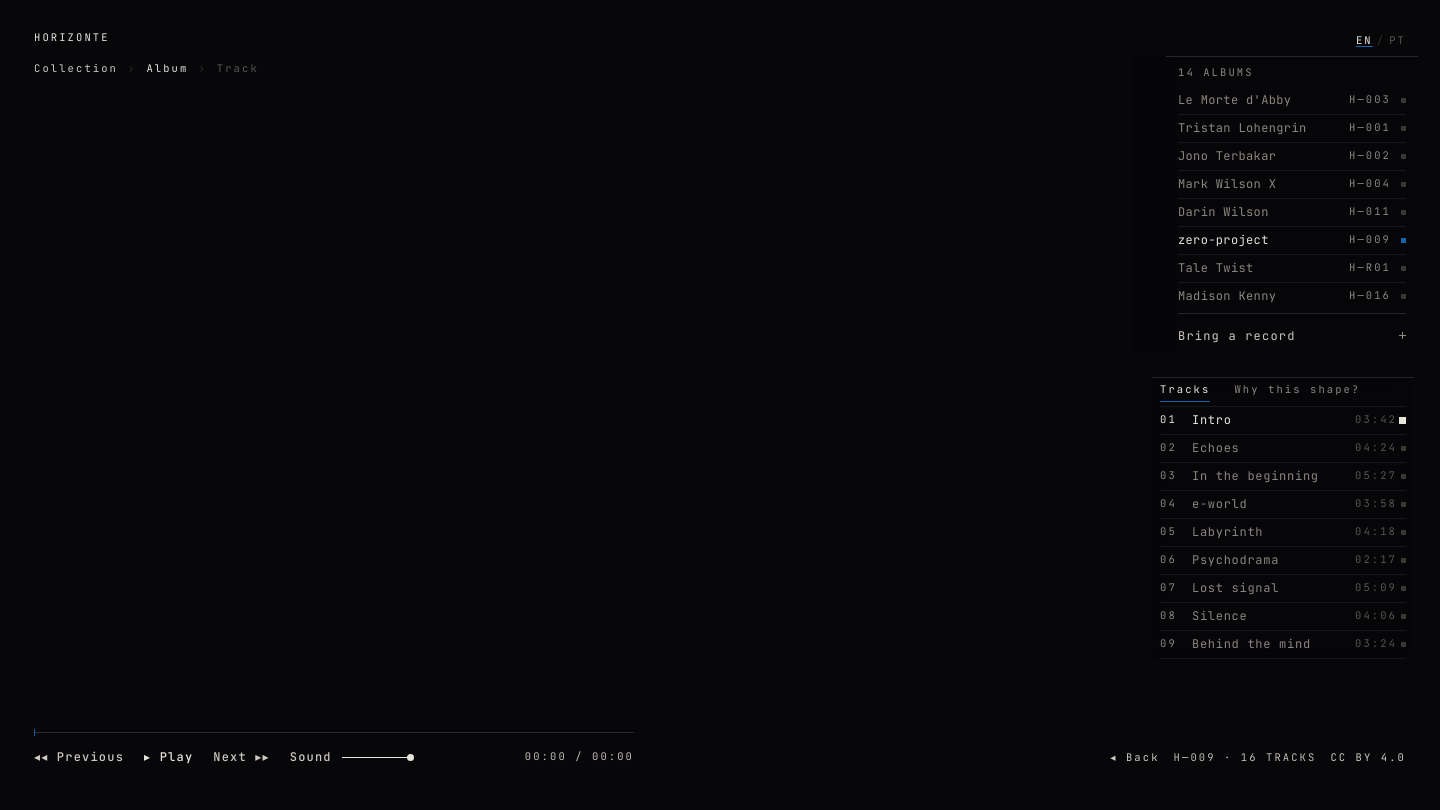
switching by hand › keeps the anatomy where it was: the open question and the experiment
Click the tab "Why this shape?" at (1297, 390), box [1234,378,1360,402]
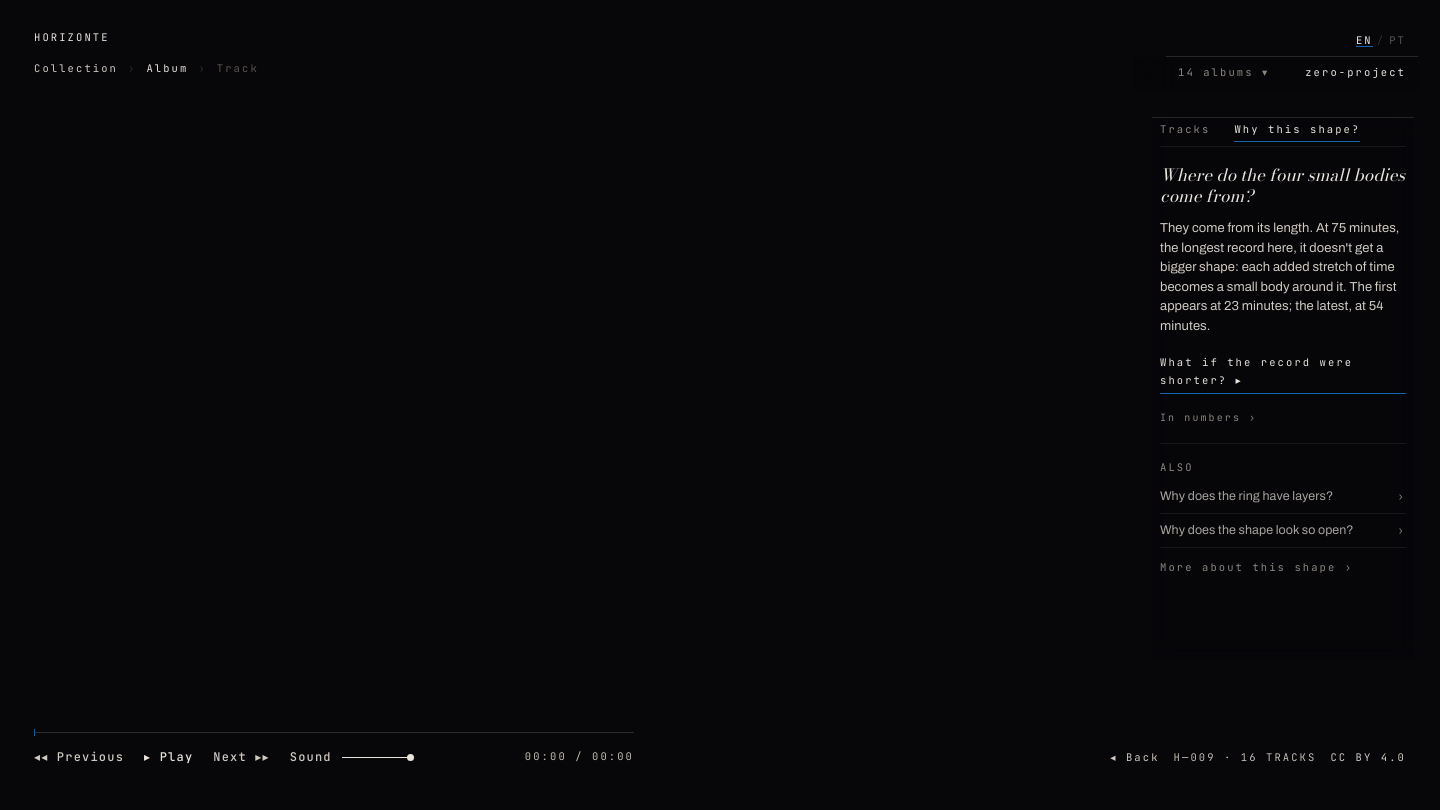
Click the button "What if the record were shorter? ▸" at (1283, 374), box [1160,354,1406,394]
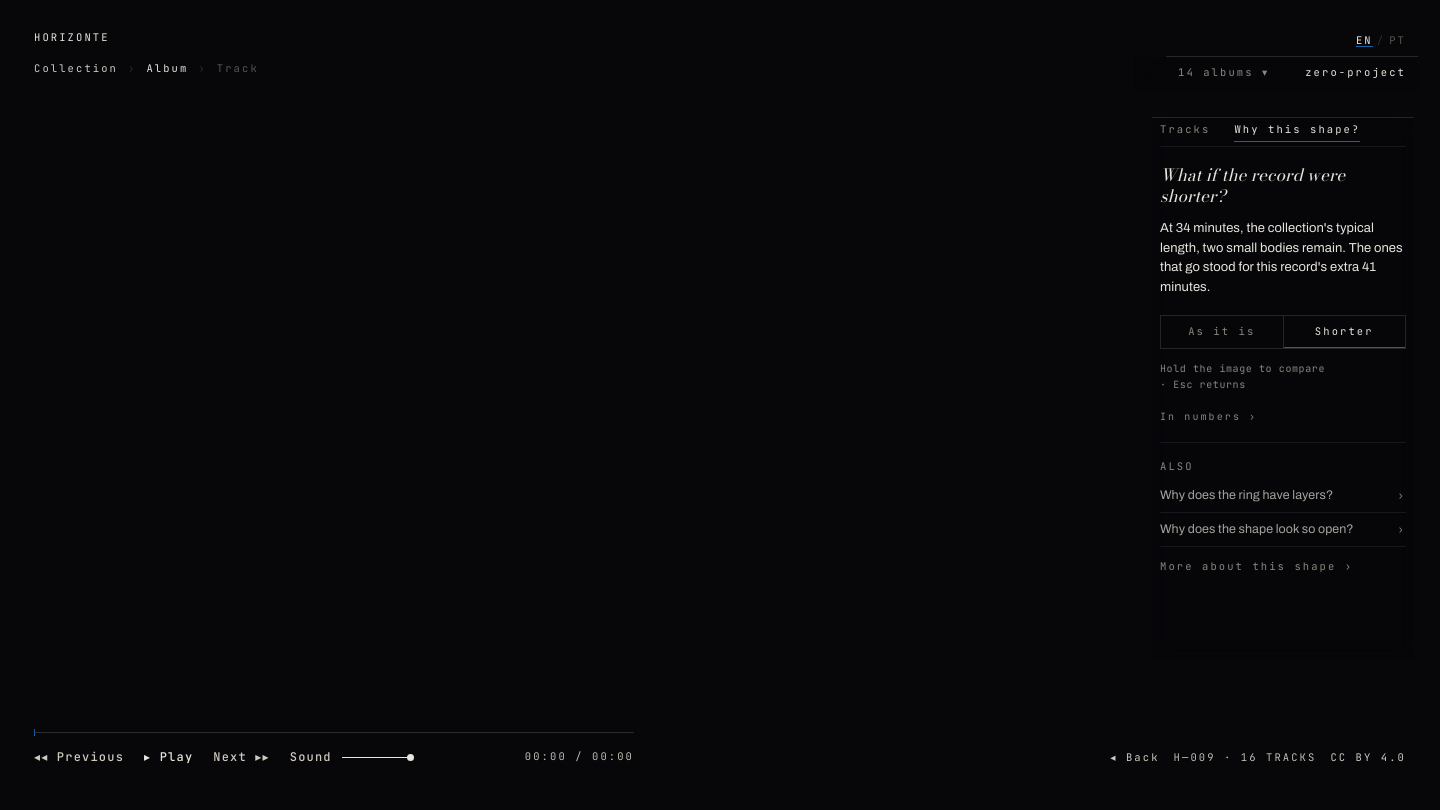
Click the button with aria-label "Português (Brasil)" at (1398, 41), box [1389,30,1406,52]
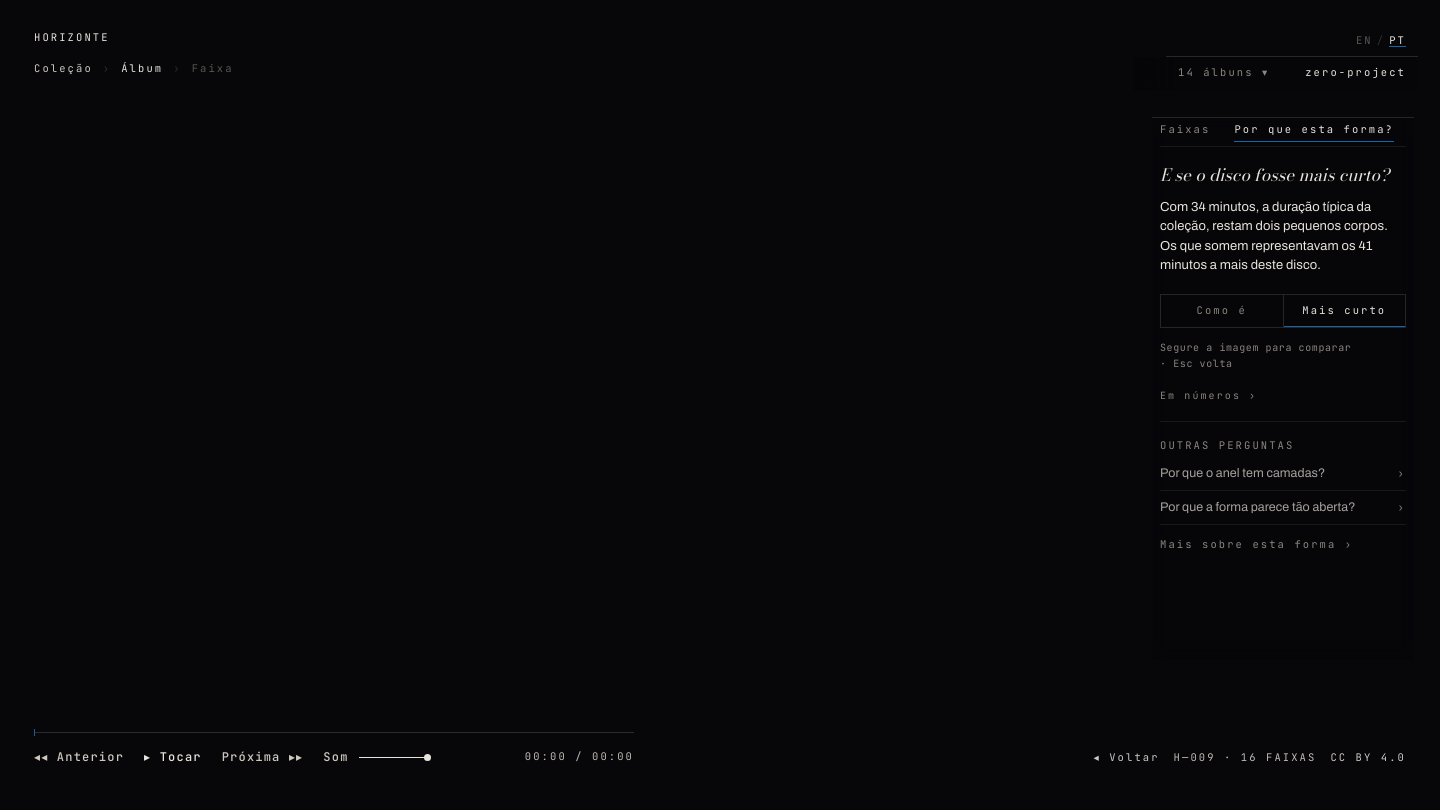
expect the heading "E se o disco fosse mais curto?" is shown: met, box [1160,164,1406,186]
expect the element named "Comparar" is shown: met, box [1160,294,1406,328]
